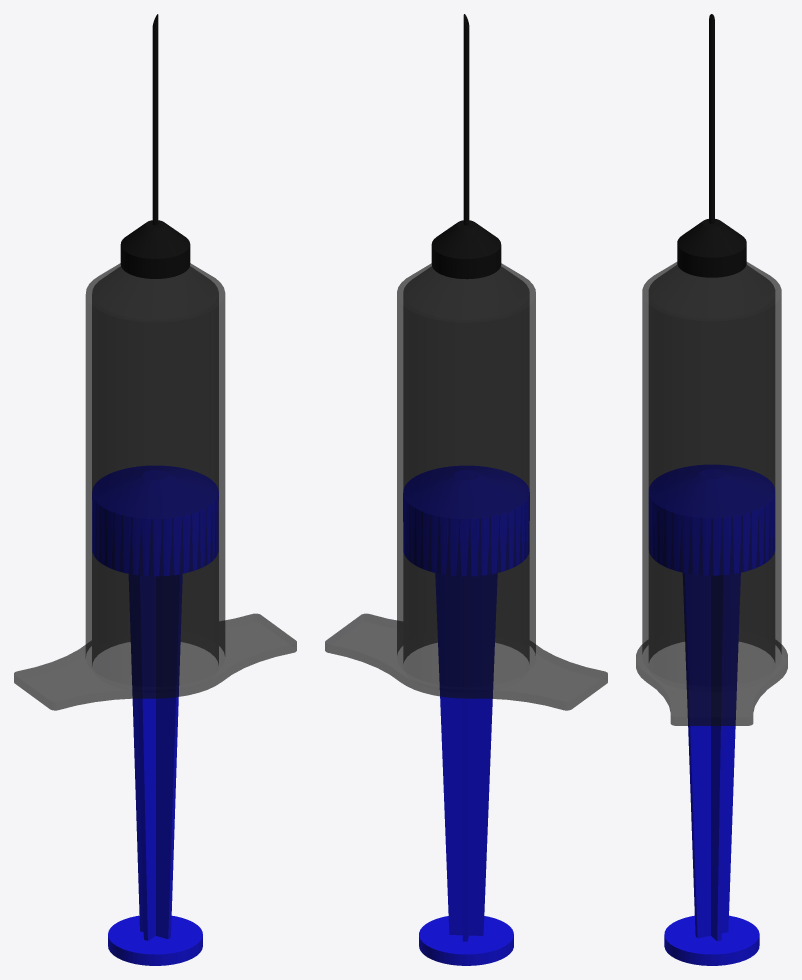
The model's file is o_syringe_part_v3.obj.
The picture shows the model from 3 angles, left to right: view 1: azimuth 30°, elevation 25°; view 2: azimuth 150°, elevation 25°; view 3: azimuth 270°, elevation 25°; orthographic projection.
Parts seen in each view (by area): view 1: syringe_part_v2-1-solid1, syringe_part_v2-1-solid2, syringe_part_v2-1-solid3, syringe_part_v2-1-solid4, syringe_part_v2-1-solid5; view 2: syringe_part_v2-1-solid1, syringe_part_v2-1-solid2, syringe_part_v2-1-solid3, syringe_part_v2-1-solid4, syringe_part_v2-1-solid5; view 3: syringe_part_v2-1-solid1, syringe_part_v2-1-solid2, syringe_part_v2-1-solid3, syringe_part_v2-1-solid4, syringe_part_v2-1-solid5.
Boxes of the visible parts, x1,y1,x2,y2 form: syringe_part_v2-1-solid1: (14, 263, 296, 710); syringe_part_v2-1-solid2: (108, 574, 202, 965); syringe_part_v2-1-solid3: (92, 466, 218, 576); syringe_part_v2-1-solid4: (120, 220, 190, 278); syringe_part_v2-1-solid5: (152, 14, 158, 225); syringe_part_v2-1-solid1: (325, 263, 607, 710); syringe_part_v2-1-solid2: (419, 573, 513, 965); syringe_part_v2-1-solid3: (403, 466, 529, 576); syringe_part_v2-1-solid4: (431, 220, 501, 279); syringe_part_v2-1-solid5: (463, 14, 469, 225); syringe_part_v2-1-solid1: (636, 262, 787, 725); syringe_part_v2-1-solid2: (664, 573, 759, 965); syringe_part_v2-1-solid3: (649, 465, 775, 575); syringe_part_v2-1-solid4: (677, 219, 746, 277); syringe_part_v2-1-solid5: (709, 14, 714, 223).
Bounding box in the file's own units: 0.0449 × 0.1622 × 0.0239.
